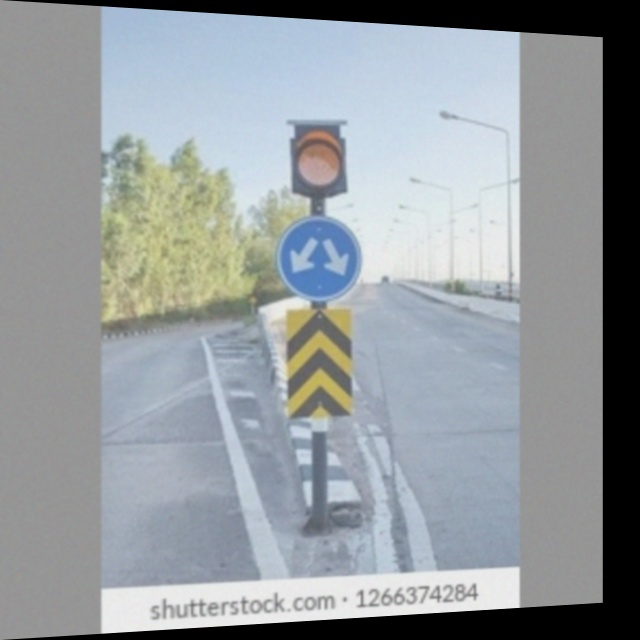Pass_Either_Side: (276, 213, 365, 301)
